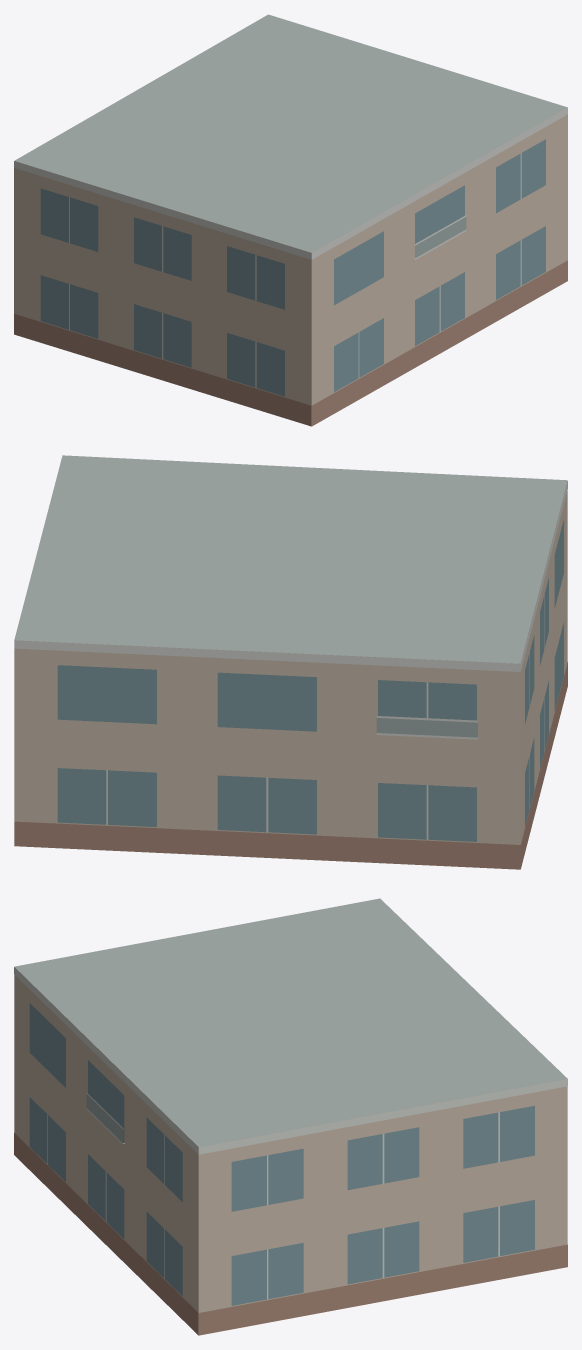
File: survey-upis-32963551.glb
3 renders of one model, top to bottom at view 1: azimuth 30°, elevation 25°; view 2: azimuth 150°, elevation 25°; view 3: azimuth 270°, elevation 25°, orthographic. The views are drawn at different scales.
Parts seen in each view (by area): view 1: survey-upis-32963551.tmp; view 2: survey-upis-32963551.tmp; view 3: survey-upis-32963551.tmp.
Part boxes in pixels (x1,y1,x2,y2): survey-upis-32963551.tmp: (14, 14, 567, 426); survey-upis-32963551.tmp: (14, 455, 567, 869); survey-upis-32963551.tmp: (14, 898, 567, 1335).
Size of the model in its own units: 17.3 by 6.1 by 16.27.
